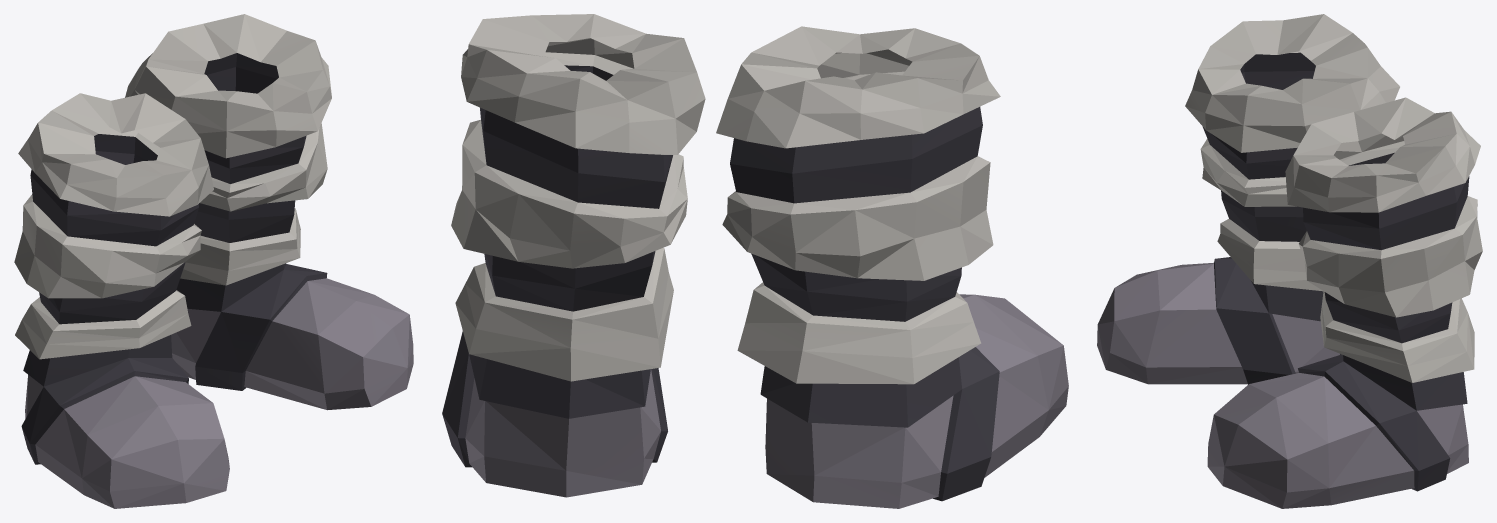
File: bootsHideDisplay.fbx
The picture shows the model from 3 angles, left to right: view 1: azimuth 30°, elevation 25°; view 2: azimuth 150°, elevation 25°; view 3: azimuth 270°, elevation 25°; orthographic projection. The views are drawn at different scales.
Visible parts, largest first — view 1: bootsHideDisplay; view 2: bootsHideDisplay; view 3: bootsHideDisplay.
Part boxes in pixels (bbox=[...]): bootsHideDisplay: bbox=[14, 14, 413, 508]; bootsHideDisplay: bbox=[442, 14, 1068, 508]; bootsHideDisplay: bbox=[1097, 14, 1482, 508].
Bounding box in the file's own units: 1.76 × 1.39 × 1.49.
Materials: 1 (1 with a texture image).
